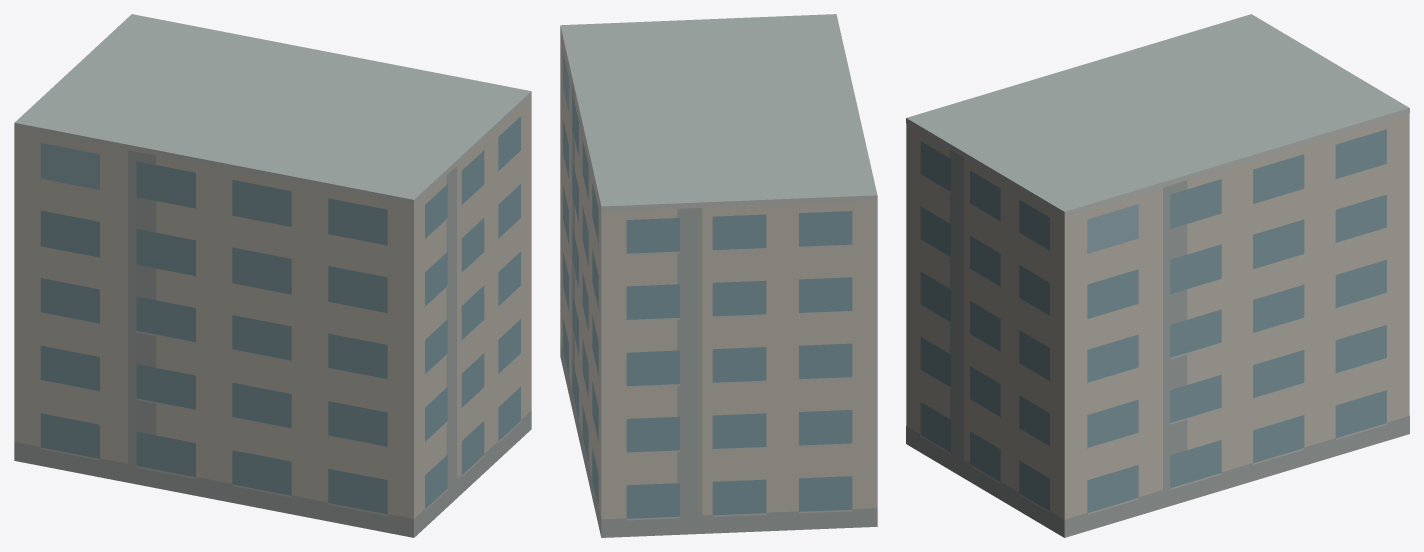
The model's file is residential-8ba7d6d8-e87e-4cb1-82ab-a329e36313c6.glb.
The picture shows the model from 3 angles, left to right: view 1: azimuth 30°, elevation 25°; view 2: azimuth 150°, elevation 25°; view 3: azimuth 270°, elevation 25°; orthographic projection. The views are drawn at different scales.
Visible parts, largest first — view 1: residential-8ba7d6d8-e87e-4cb1-82ab-a329e36313c6.tmp; view 2: residential-8ba7d6d8-e87e-4cb1-82ab-a329e36313c6.tmp; view 3: residential-8ba7d6d8-e87e-4cb1-82ab-a329e36313c6.tmp.
Boxes of the visible parts, left/top/right/bottom form: residential-8ba7d6d8-e87e-4cb1-82ab-a329e36313c6.tmp: left=14, top=14, right=531, bottom=537; residential-8ba7d6d8-e87e-4cb1-82ab-a329e36313c6.tmp: left=560, top=14, right=877, bottom=537; residential-8ba7d6d8-e87e-4cb1-82ab-a329e36313c6.tmp: left=906, top=14, right=1409, bottom=537.
Bounding box in the file's own units: 18.88 × 14.5 × 20.3.
